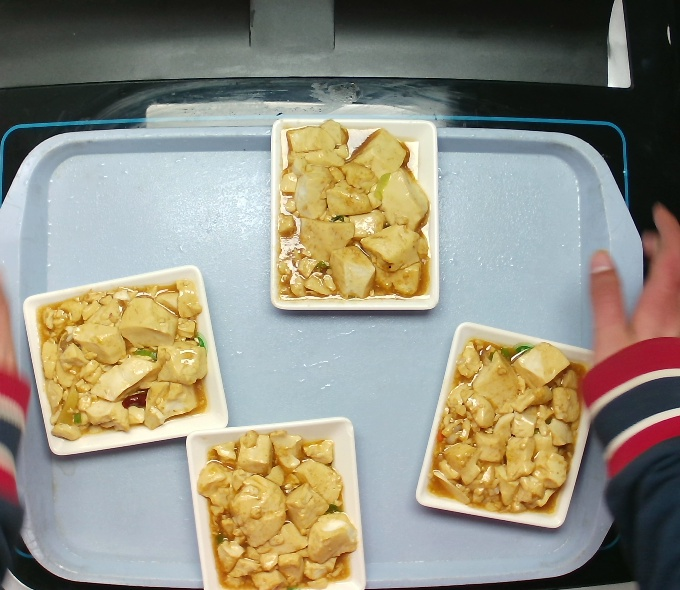wcq-DouFu: (24, 276, 223, 444), (280, 106, 423, 321), (430, 341, 593, 514), (200, 421, 353, 589)
